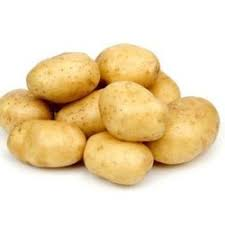potato: (151, 99, 220, 167), (102, 79, 163, 149), (85, 129, 149, 184), (5, 117, 80, 161), (23, 52, 96, 96), (98, 39, 164, 77)
